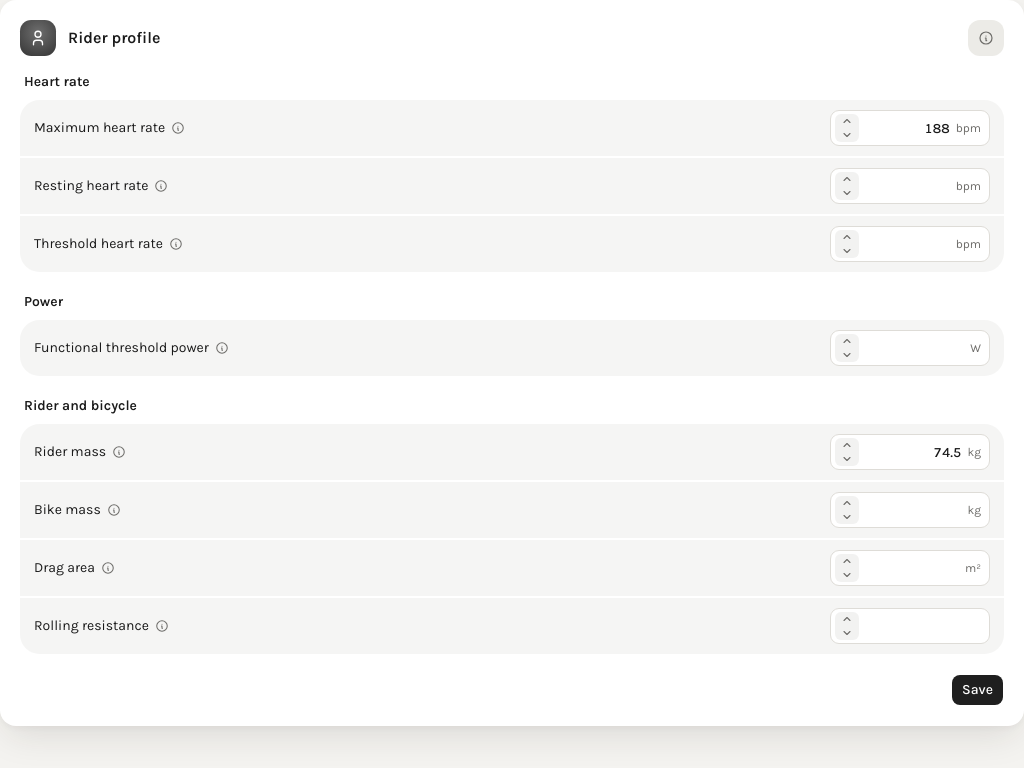
it: RiderProfile › steps a field by its own precision
What coordinates should you click on to do the following:
click the button named "Increase" in the row of "Rider mass"
I would click on:
 (847, 445)
Its box is [835,438,859,452].
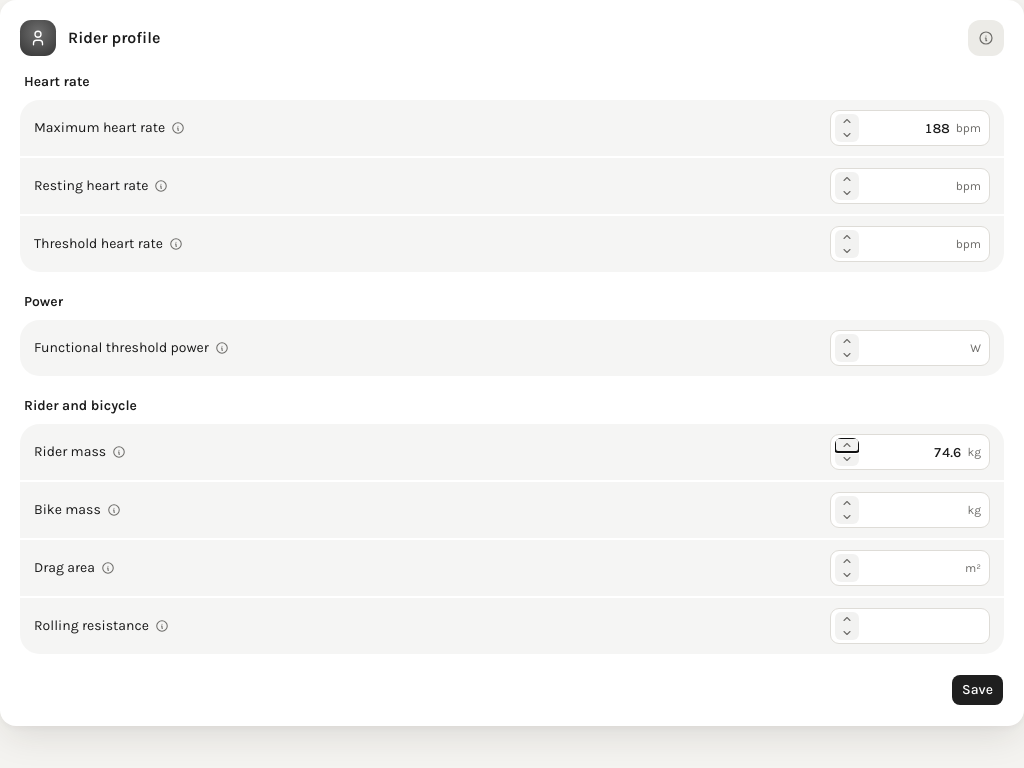
What coordinates should you click on to do the following:
click the button named "Decrease" in the row of "Maximum heart rate"
I would click on:
 (847, 135)
Its box is [835,128,859,142].
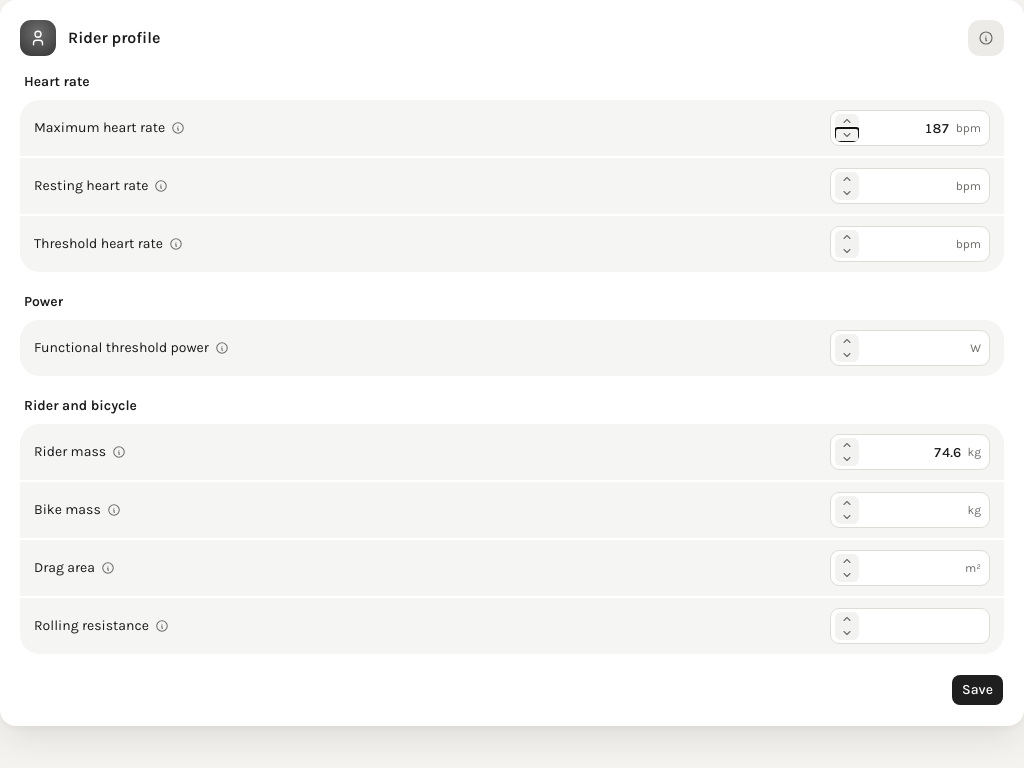
Result: the number field named "Rider mass (kg)" holds "74.6" at [859,436,968,468]
Result: the number field named "Maximum heart rate (bpm)" holds "187" at [859,112,956,144]
